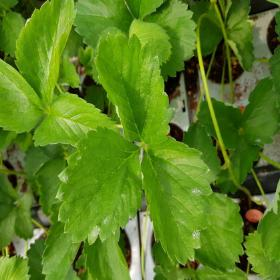Powdery Mildew Leaf: (55, 126, 144, 246), (139, 135, 215, 266), (94, 31, 176, 146), (14, 0, 78, 106)
